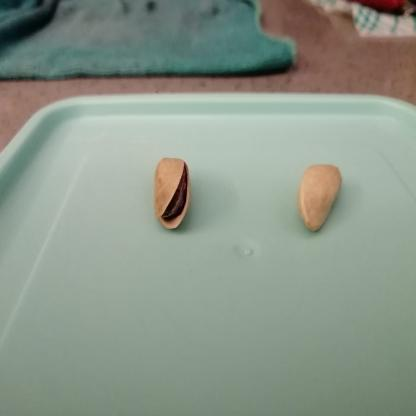pistachio: (148, 154, 204, 231), (297, 159, 341, 233)
